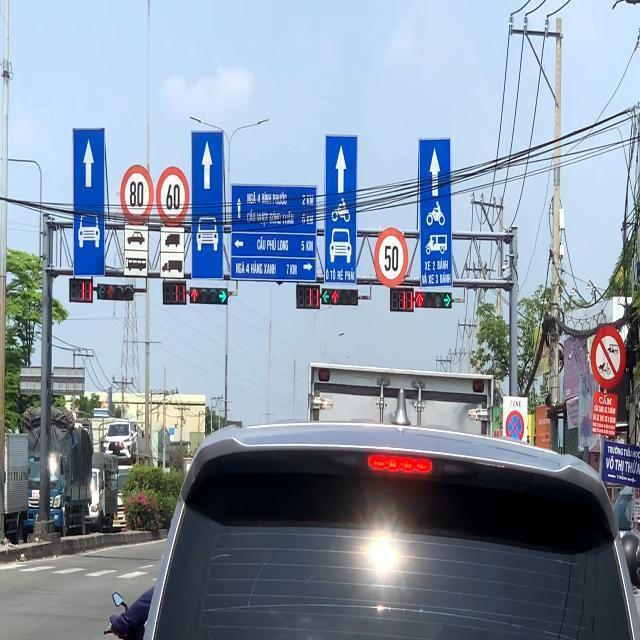127-toc-do-toi-da-50: (374, 225, 410, 287)
127-toc-do-toi-da-60: (156, 166, 188, 227)
127-toc-do-toi-da-80: (120, 163, 154, 225)
130-cam-dung-va-do-xe: (505, 410, 527, 442)
